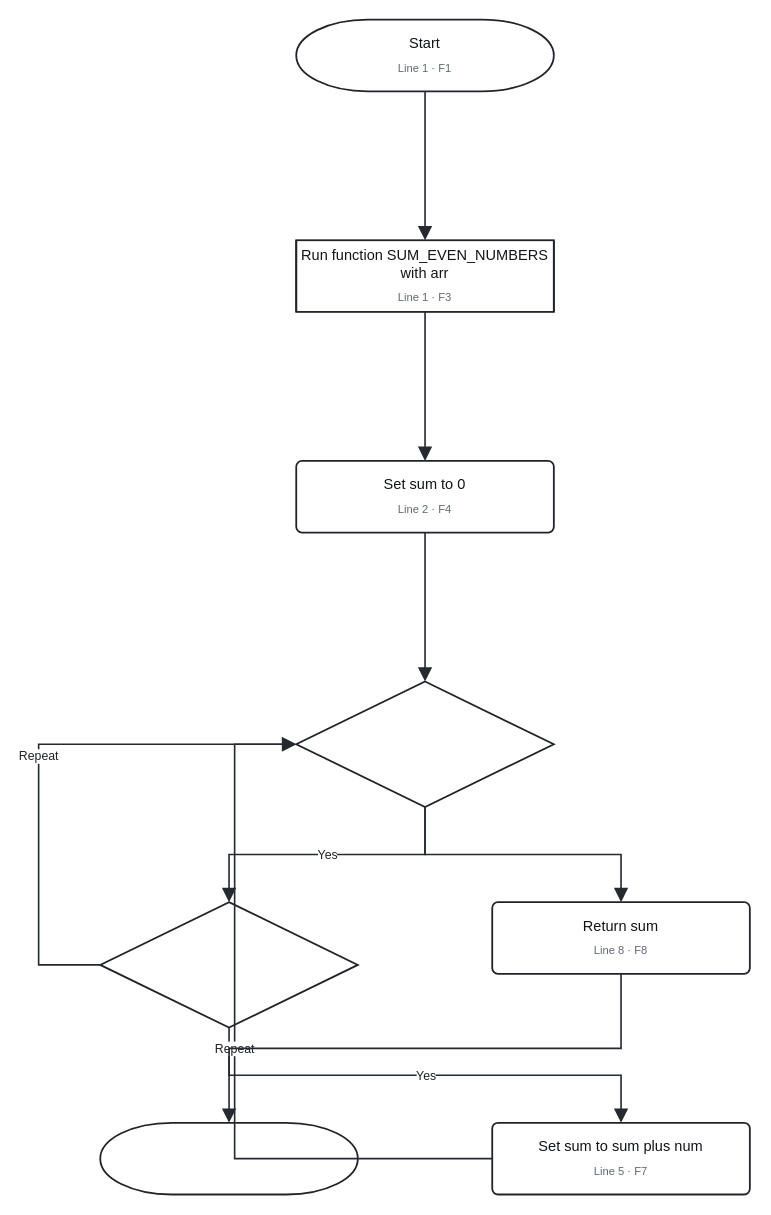
This 771x1215 diagram has some shape labels left out. The box of each missing label's shape, as (x1, y1, x2, y2) in pixels:
End Line 1 · F2: (99, 1121, 358, 1195)
For each num in arr Line 3 · F5: (295, 680, 554, 807)
Num modulo 2 is equal to 0? Line 4 · F6: (99, 901, 358, 1028)
